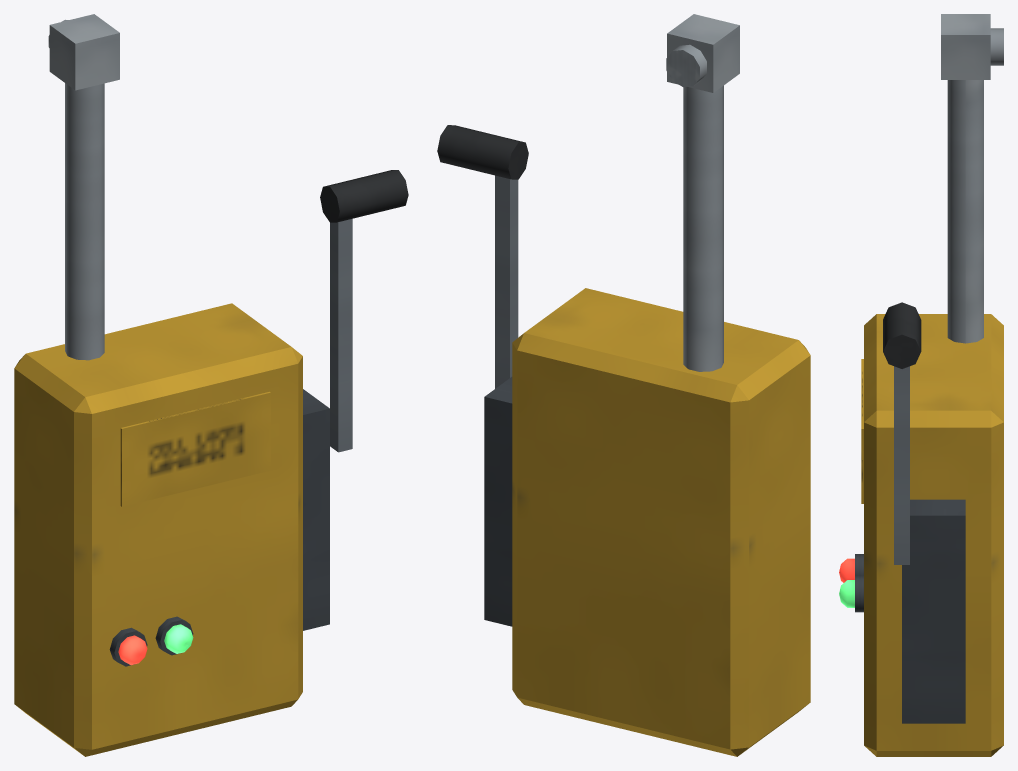
File: locking_box.fbx
3 views of the same model, side by side, from view 1: azimuth 30°, elevation 25°; view 2: azimuth 150°, elevation 25°; view 3: azimuth 270°, elevation 25° (orthographic). The views are drawn at different scales.
Parts seen in each view (by area): view 1: locking_box, locking_box_lever, locking_box_lamp, locking_box_lamp_idle; view 2: locking_box, locking_box_lever; view 3: locking_box, locking_box_lever, locking_box_lamp, locking_box_lamp_idle.
Part boxes in pixels (x1,y1,x2,y2): locking_box: (14, 14, 329, 756); locking_box_lever: (320, 170, 408, 452); locking_box_lamp: (164, 624, 193, 653); locking_box_lamp_idle: (118, 635, 147, 665); locking_box: (484, 14, 810, 756); locking_box_lever: (437, 125, 528, 388); locking_box: (855, 14, 1003, 756); locking_box_lever: (883, 302, 921, 564); locking_box_lamp: (839, 580, 854, 607); locking_box_lamp_idle: (839, 558, 854, 582).
Bounding box in the file's own units: 0.59 × 1.14 × 0.259.
1 material, 1 textured.
